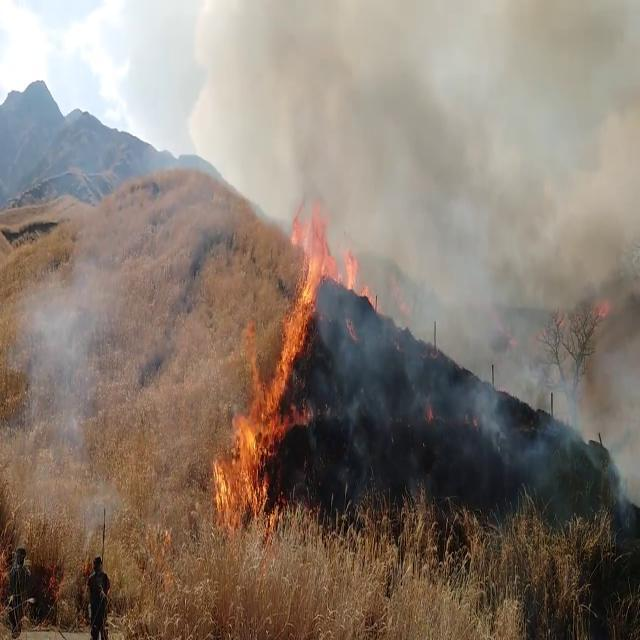Fire: (214, 216, 322, 513)
Smoke: (276, 0, 640, 440), (4, 232, 124, 544)
